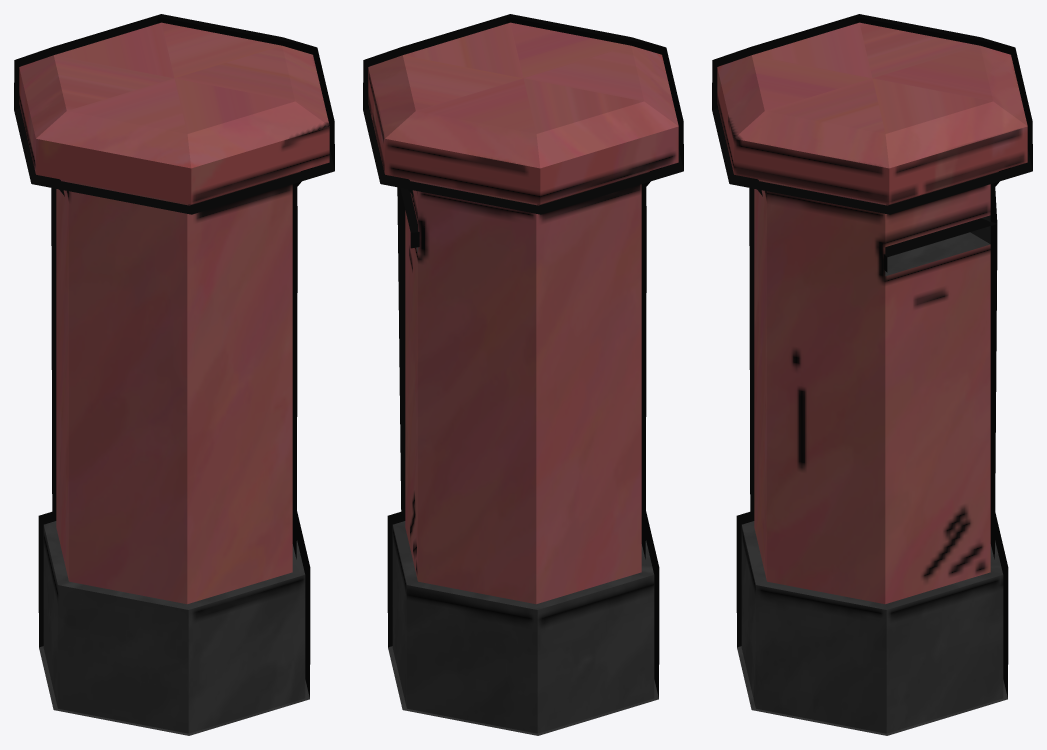
File: post box.fbx
3 views of the same model, side by side, from view 1: azimuth 30°, elevation 25°; view 2: azimuth 150°, elevation 25°; view 3: azimuth 270°, elevation 25° (orthographic).
Parts seen in each view (by area): view 1: Cylinder.024; view 2: Cylinder.024; view 3: Cylinder.024.
Boxes of the visible parts, <box> form: Cylinder.024: <box>14,14,334,735</box>; Cylinder.024: <box>363,14,683,735</box>; Cylinder.024: <box>712,14,1032,735</box>.
Size of the model in its own units: 91.85 by 174 by 84.09.
2 materials, 1 textured.
